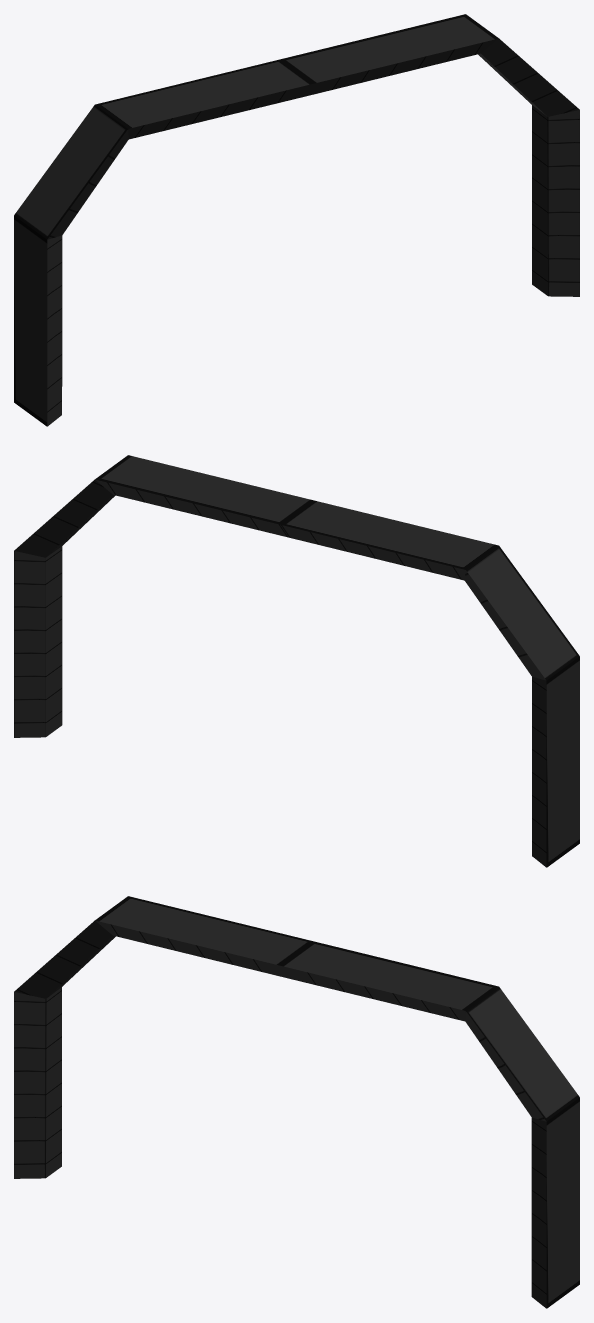
Rendered from Structure01_Art.fbx.
The picture shows the model from 3 angles, top to bottom: view 1: azimuth 30°, elevation 25°; view 2: azimuth 150°, elevation 25°; view 3: azimuth 330°, elevation 25°; orthographic projection.
Visible parts, largest first — view 1: Structure01_Art; view 2: Structure01_Art; view 3: Structure01_Art.
Boxes of the visible parts, box(x1,y1,x2,y2) form: Structure01_Art: box(14, 14, 579, 426); Structure01_Art: box(14, 455, 579, 867); Structure01_Art: box(14, 896, 579, 1308).
Size of the model in its own units: 11.64 by 5.81 by 1.26.
